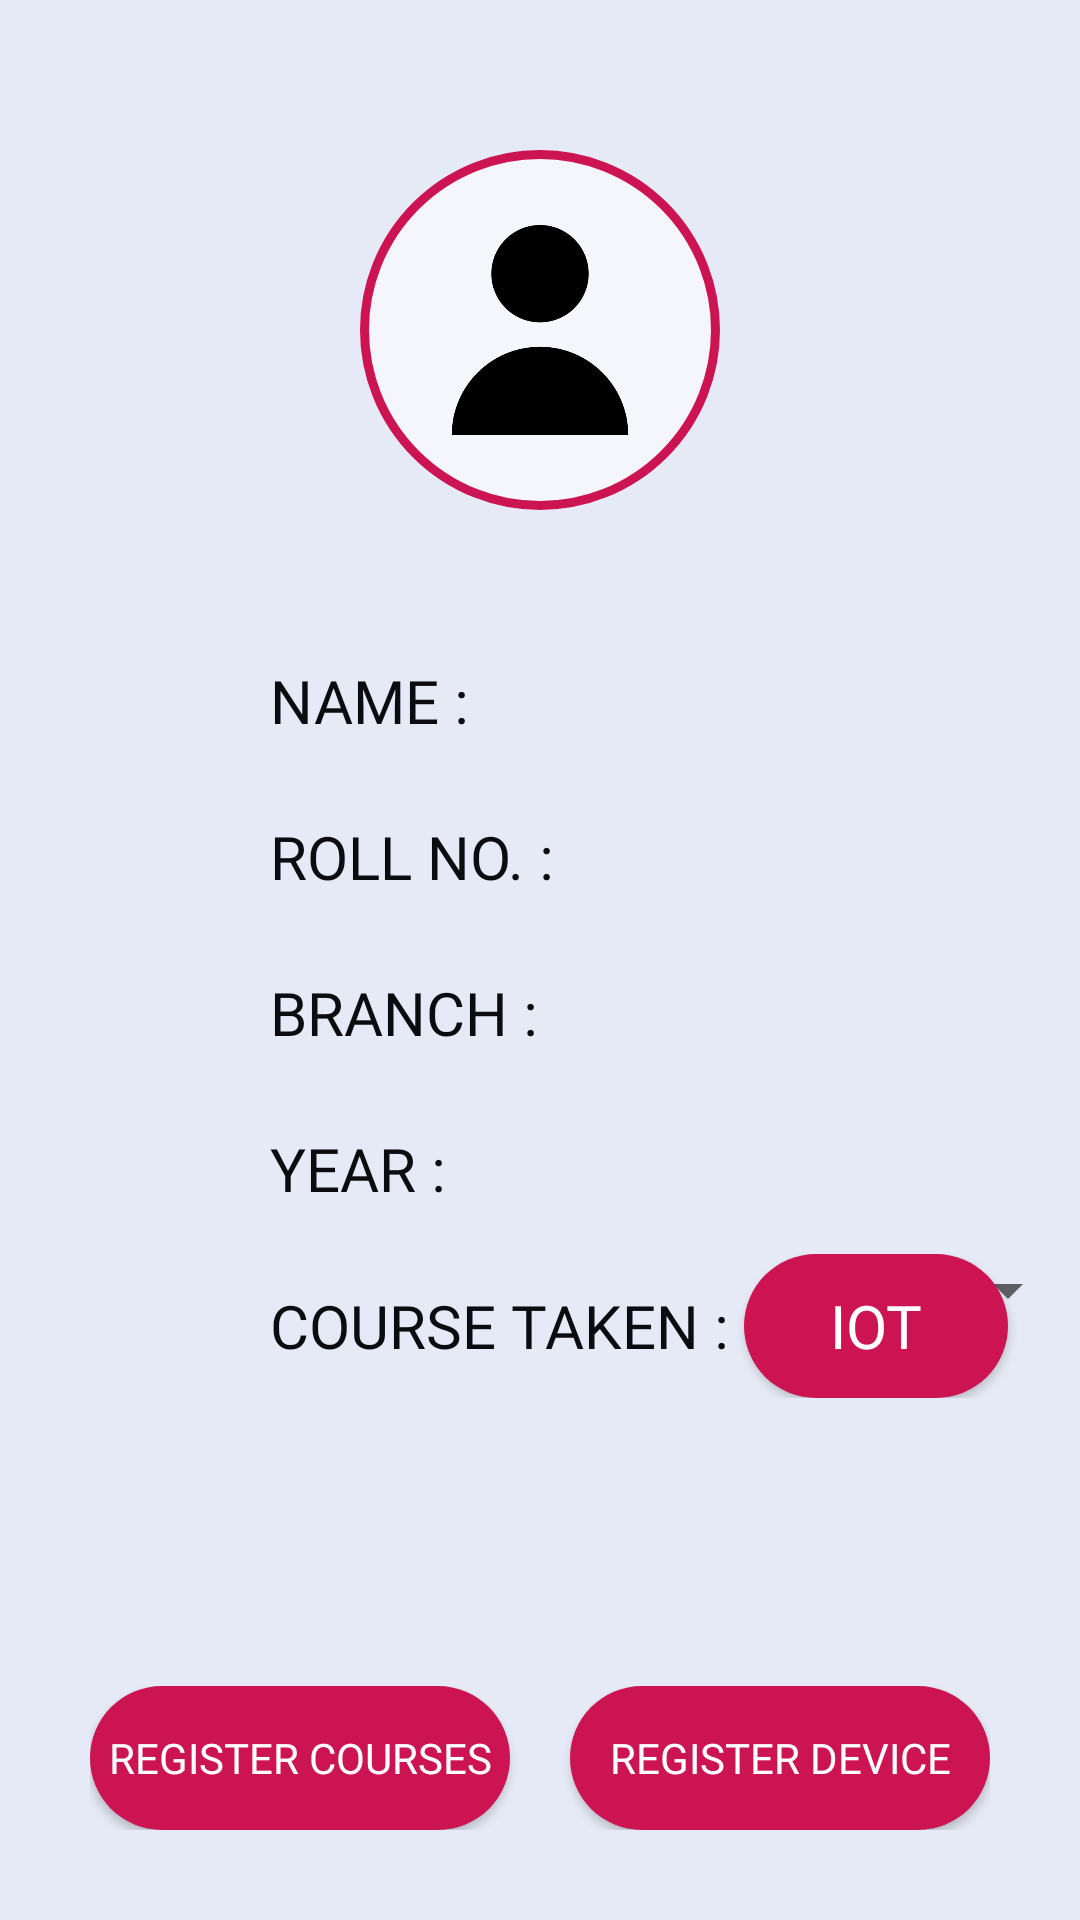

Icon bounding boxes for this 1080w x 1920h phone screenshot, format (x1, y1, x2, y2):
user: (360, 150, 720, 510)
